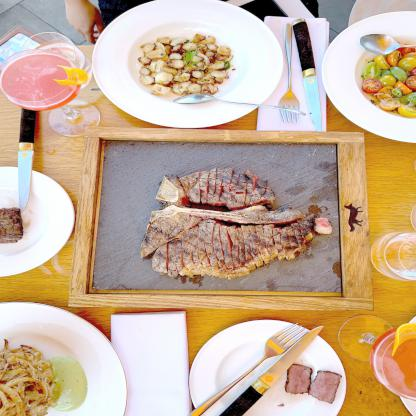Carne: (137, 221, 315, 279), (154, 160, 274, 206)
